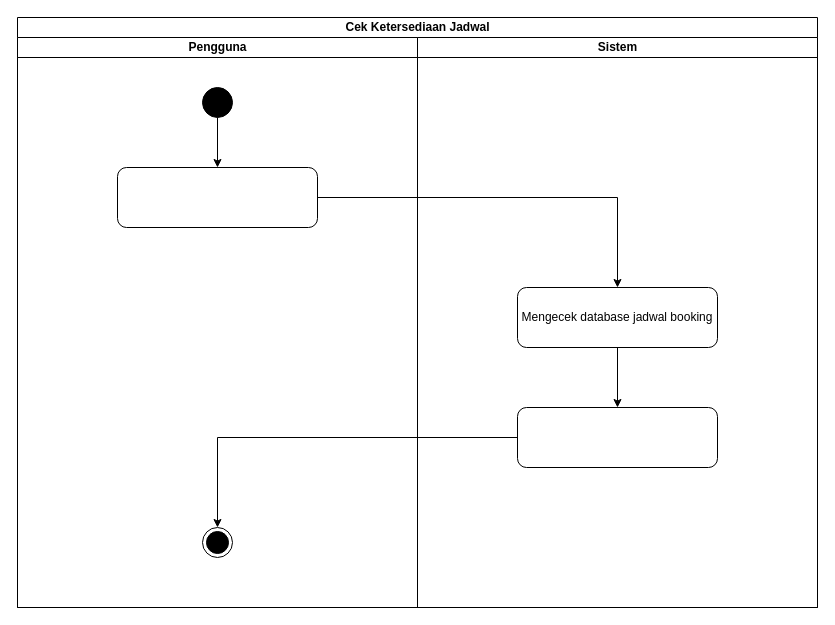
Some shapes in this 835 by 625 pixel diagram are drawn without their labels. Each missing label, with the centre of its shape:
Memilih tanggal dan jam pada kalender MUA: the point at 217,197
Menampilkan status ketersediaan (Tersedia/Tidak Tersedia): the point at 617,437
